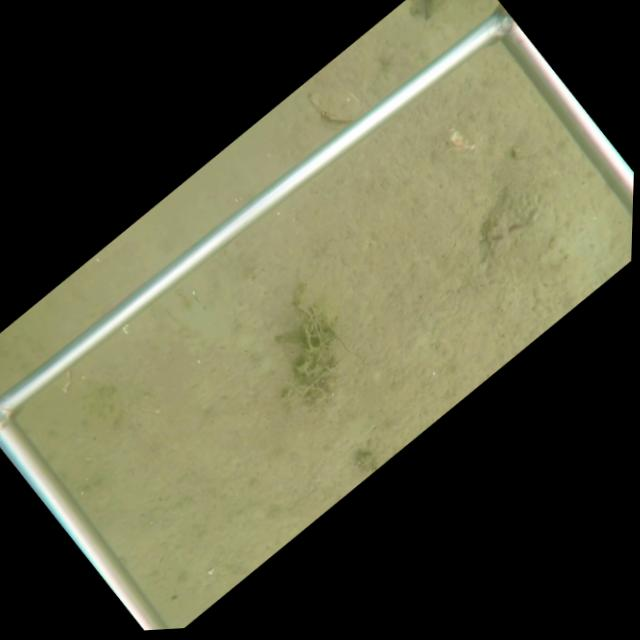Oyster-Indeterminate: (305, 86, 365, 126)
